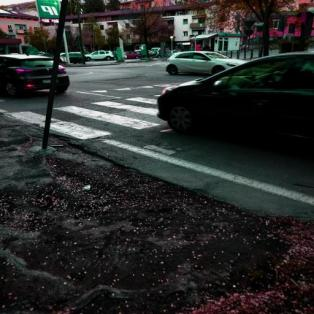Paso de Cebra: (0, 93, 160, 150)
